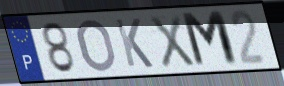2: (230, 9, 268, 68)
8: (40, 20, 76, 74)
K: (113, 17, 156, 69)
M: (178, 9, 242, 70)
O: (76, 17, 119, 74)
X: (147, 14, 198, 70)
